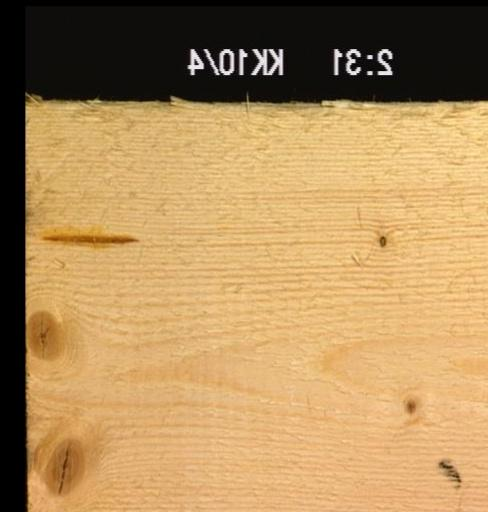dry_knot: (375, 233, 390, 249)
sound_knot: (35, 430, 91, 496), (25, 307, 68, 365), (401, 395, 419, 417)
